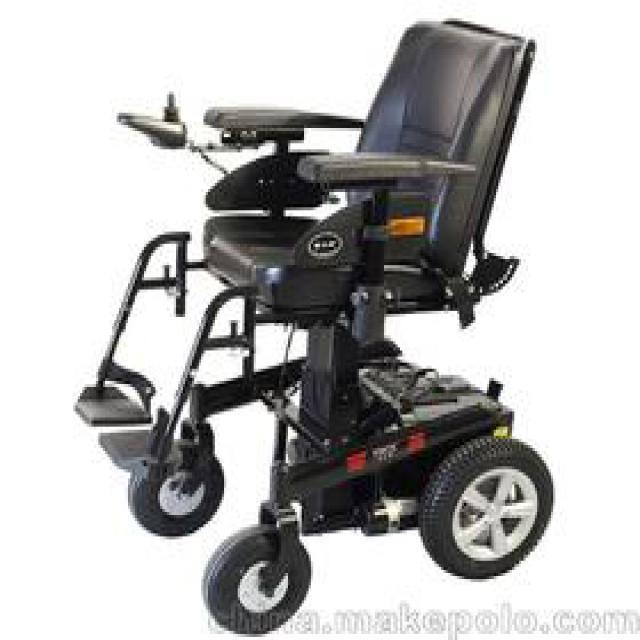wheelchair: (82, 12, 560, 637)
